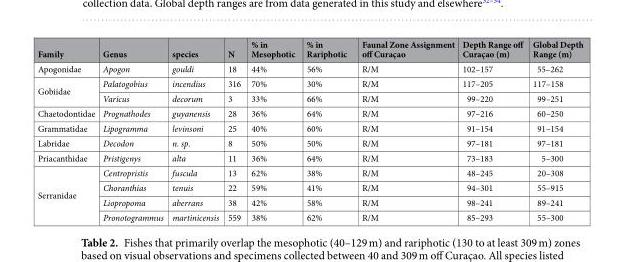table: (36, 37, 582, 223)
table column: (353, 37, 457, 223), (457, 37, 527, 223), (98, 37, 167, 223), (36, 37, 98, 223), (167, 37, 222, 223), (245, 37, 300, 223), (527, 37, 582, 223), (300, 37, 353, 223), (222, 37, 245, 223)
table column header: (36, 37, 582, 60)
table row: (36, 37, 582, 60), (36, 60, 582, 75), (36, 75, 582, 90), (36, 90, 582, 105), (36, 105, 582, 120), (36, 120, 582, 135), (36, 135, 582, 150), (36, 164, 582, 179), (36, 179, 582, 194), (36, 194, 582, 209), (36, 150, 582, 164), (36, 209, 582, 223)
table spanning cell: (36, 164, 98, 223), (36, 75, 98, 105)
